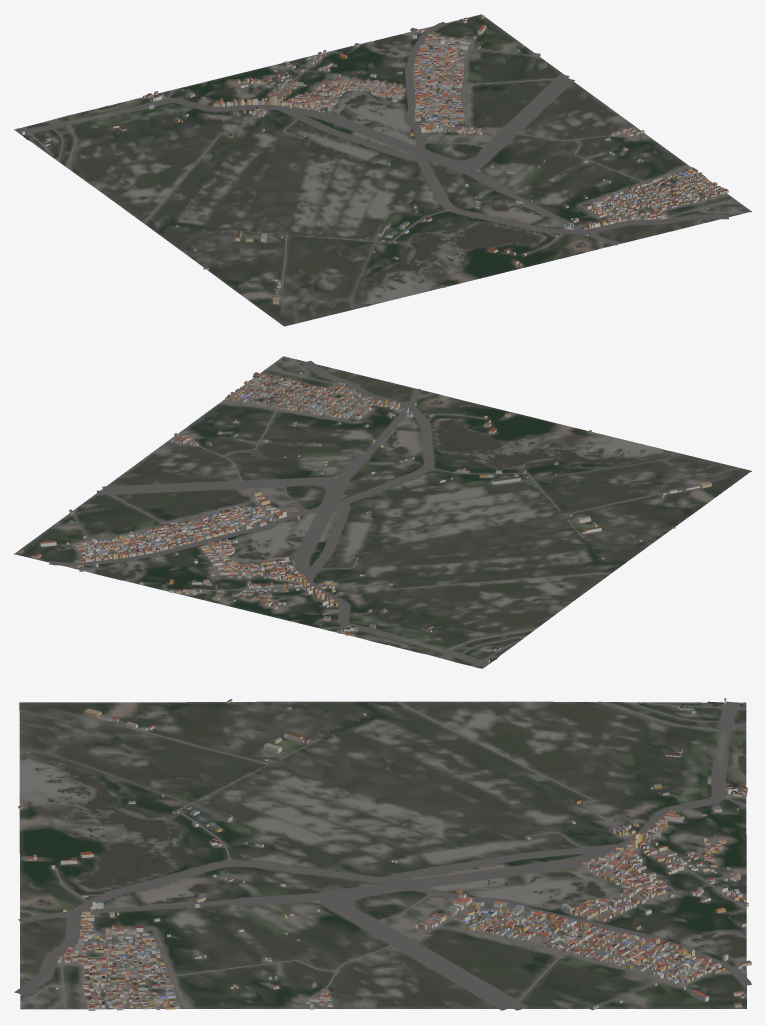
3 renders of one model, top to bottom at view 1: azimuth 30°, elevation 25°; view 2: azimuth 150°, elevation 25°; view 3: azimuth 270°, elevation 25°, orthographic. The views are drawn at different scales.
Parts seen in each view (by area): view 1: ground, buildings, roads, water; view 2: ground, buildings, roads, water; view 3: ground, buildings, roads, water.
Part boxes in pixels (box(x1,y1,x2,y2)): ground: box(14, 14, 751, 326); buildings: box(22, 14, 728, 304); roads: box(17, 22, 746, 309); water: box(17, 34, 592, 305); ground: box(14, 356, 751, 668); buildings: box(18, 372, 711, 662); roads: box(49, 357, 683, 666); water: box(95, 396, 670, 667); ground: box(19, 701, 746, 1009); buildings: box(18, 698, 751, 1010); roads: box(14, 701, 751, 1010); water: box(20, 701, 746, 957).
Bounding box in the file's own units: 1418 × 32.4 × 1424.
